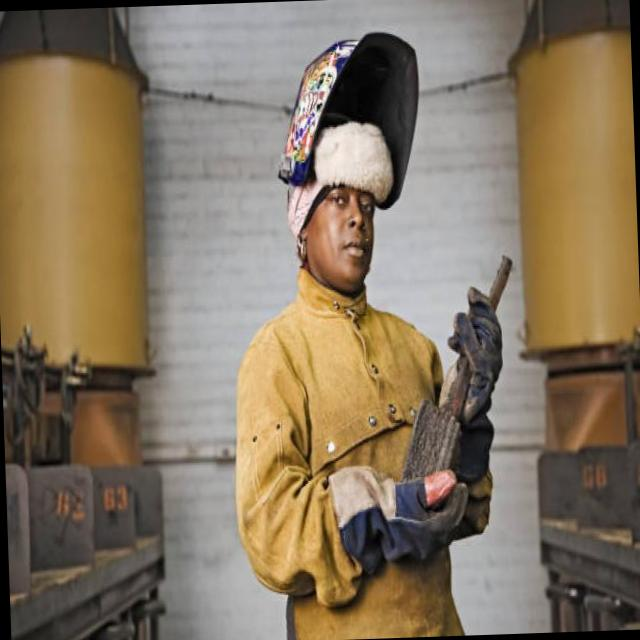Gloves: (322, 456, 472, 577), (436, 280, 507, 427)
